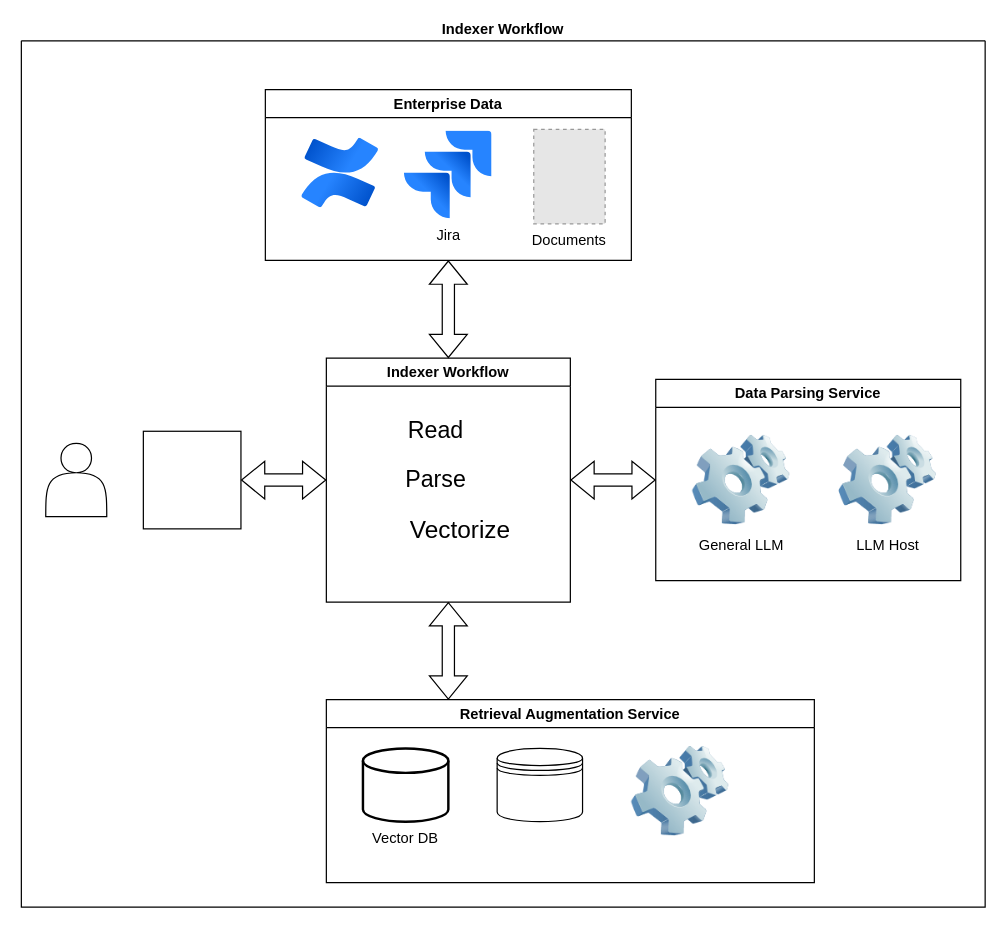
This 1007x928 diagram has some shape labels left out. Grey dashed boxes stand in for pictures. Each missing label, with the centre of its shape:
"Confluence" belongs at point (339, 172).
"Data Processor" belongs at point (76, 479).
"Document Store" belongs at point (539, 784).
"Embedding LLM" belongs at point (679, 790).
"Web App CLI App" belongs at point (191, 479).
